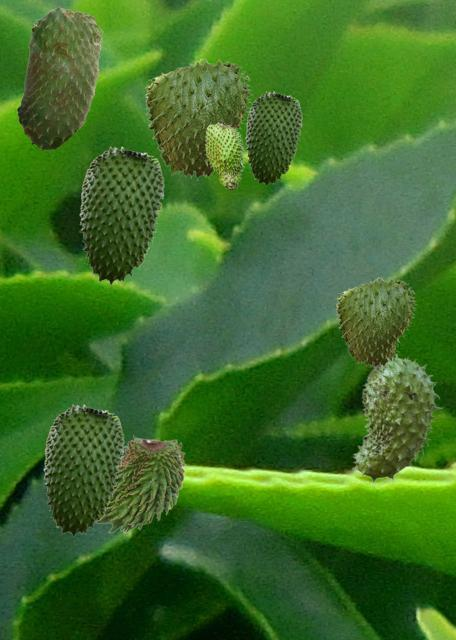guyabano: (145, 58, 252, 180), (16, 6, 102, 151), (351, 353, 442, 483), (79, 146, 163, 284), (43, 404, 123, 536), (95, 434, 185, 532), (336, 277, 416, 368), (245, 91, 301, 185), (204, 122, 244, 190)
